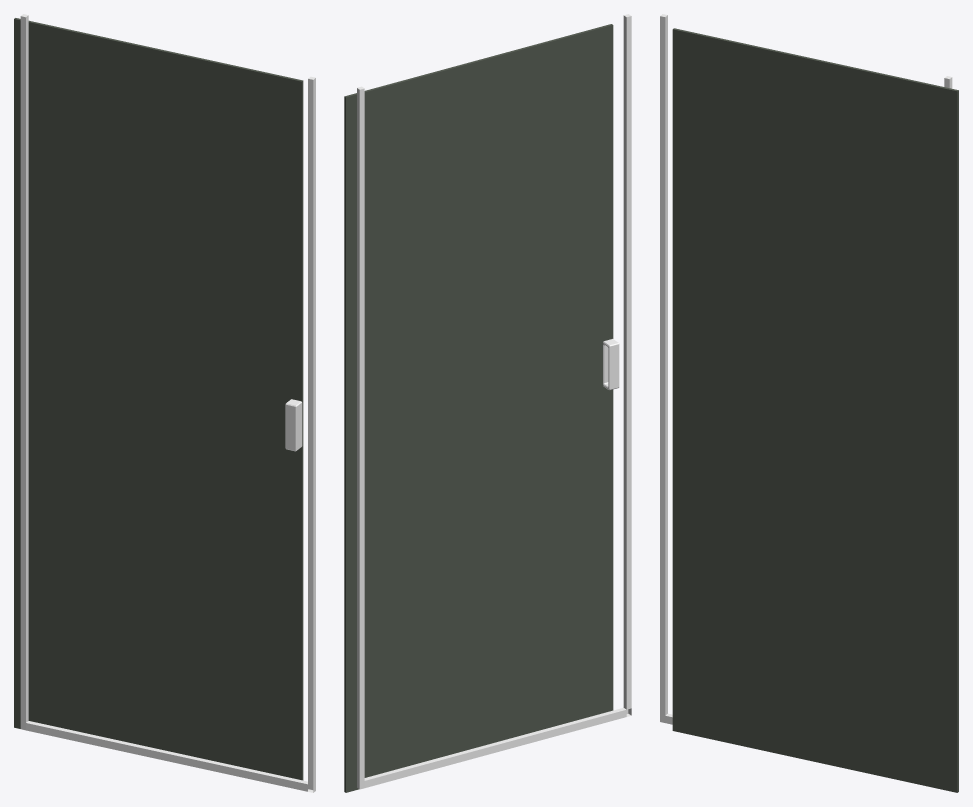
Rendered from ShowerDoor_cc803adf.obj.
3 views of the same model, side by side, from view 1: azimuth 90°, elevation 25°; view 2: azimuth 150°, elevation 25°; view 3: azimuth 270°, elevation 25° (orthographic).
Visible parts, largest first — view 1: FP423:polySurface374_818b7d51, ShowerDoorMesh_38861f70; view 2: FP423:polySurface374_818b7d51, ShowerDoorMesh_38861f70; view 3: FP423:polySurface374_818b7d51, ShowerDoorMesh_38861f70.
Boxes of the visible parts, x1,y1,x2,y2 form: FP423:polySurface374_818b7d51: (14, 18, 303, 780); ShowerDoorMesh_38861f70: (20, 14, 315, 792); FP423:polySurface374_818b7d51: (344, 24, 613, 792); ShowerDoorMesh_38861f70: (357, 14, 631, 789); FP423:polySurface374_818b7d51: (672, 28, 958, 792); ShowerDoorMesh_38861f70: (660, 14, 952, 724).
Size of the model in its own units: 0.4418 by 2.11 by 0.8037.
